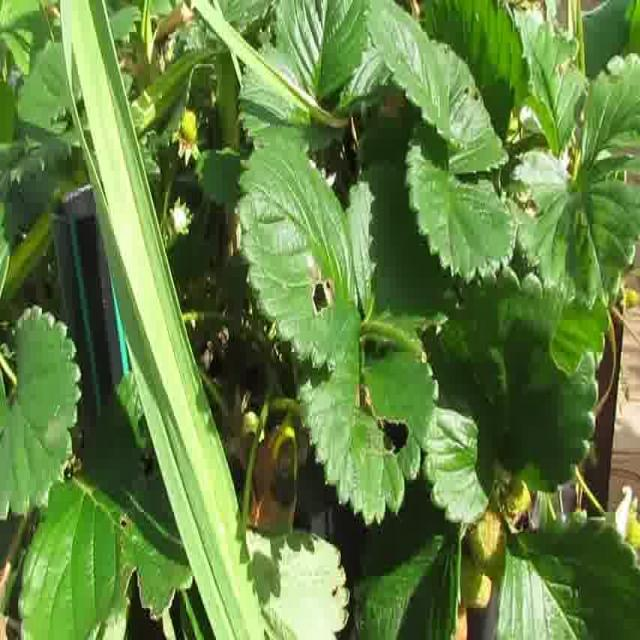Fruta sana: (471, 508, 506, 586), (452, 548, 492, 612), (498, 474, 536, 519), (444, 588, 468, 640)
